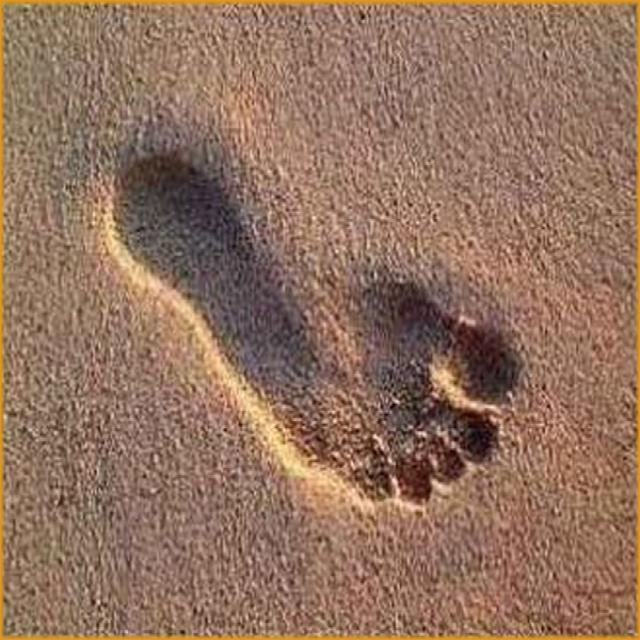human_foot_print: (59, 48, 566, 534)
